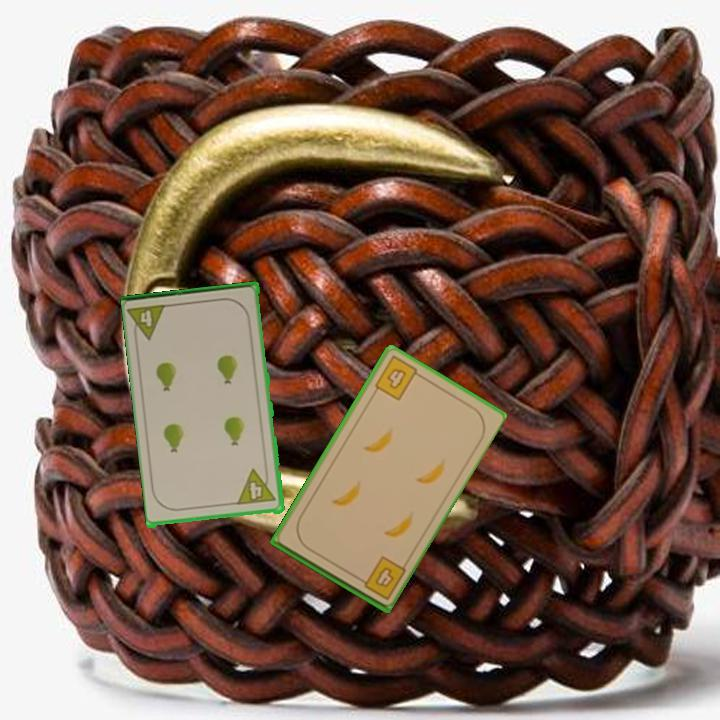4b: (353, 552, 408, 603), (371, 353, 425, 403)
4p: (126, 301, 171, 345), (234, 465, 279, 508)
